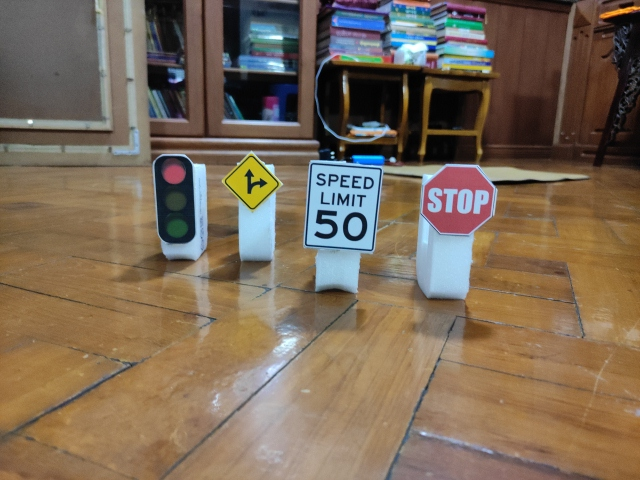Red Traffic Light: (152, 153, 197, 244)
Speed Limit 50: (303, 162, 383, 253)
Stop Sign: (421, 165, 499, 237)
Straight Or Right Sign: (224, 155, 282, 210)
